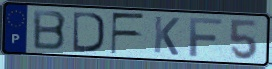5: (229, 17, 260, 61)
B: (32, 8, 69, 52)
D: (72, 10, 107, 54)
F: (110, 12, 147, 56), (188, 17, 224, 59)
K: (152, 15, 181, 58)
